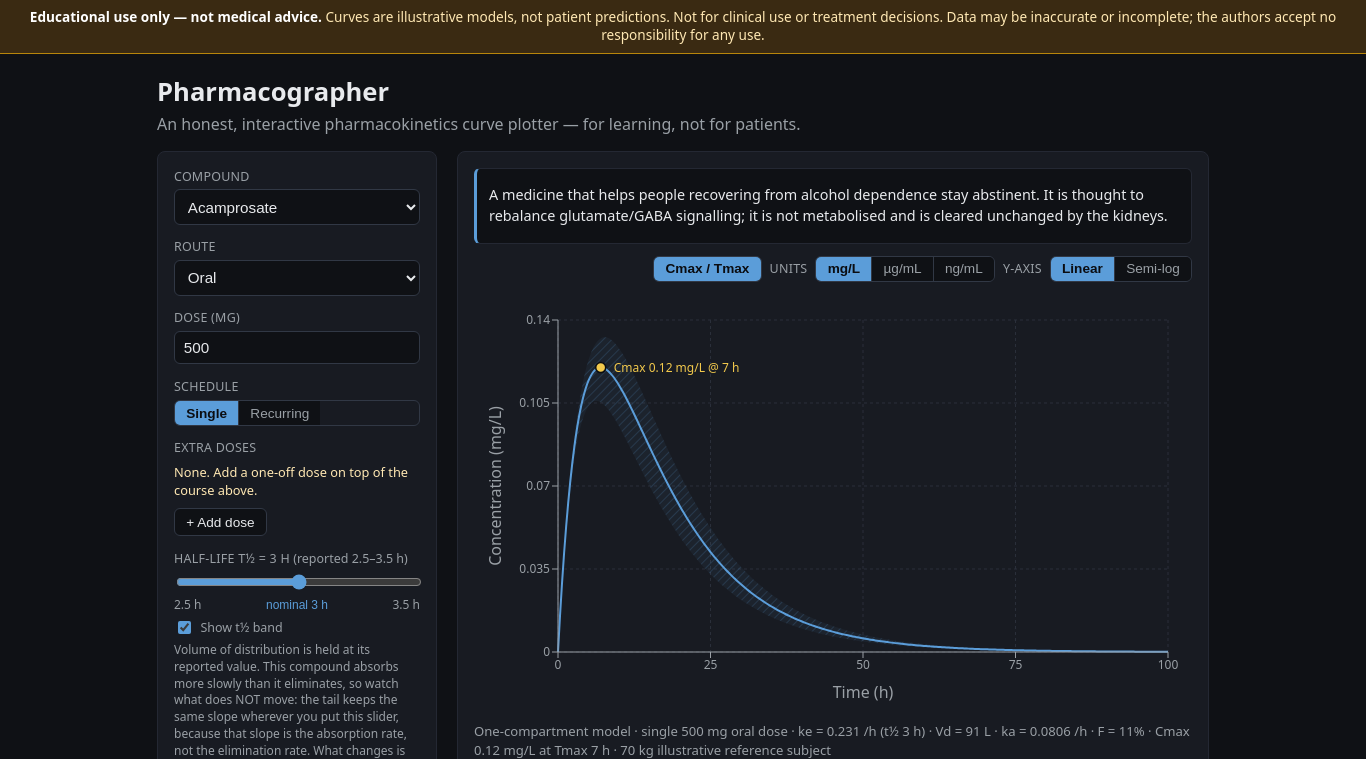
Test: variability axes, wired through App › offers NO Vd slider for a two-compartment compound
The image size is (1366, 759).
Select "Digoxin" in the dropdown with class "control__input" showing "Compound" at (297, 207), box [174, 190, 420, 225]
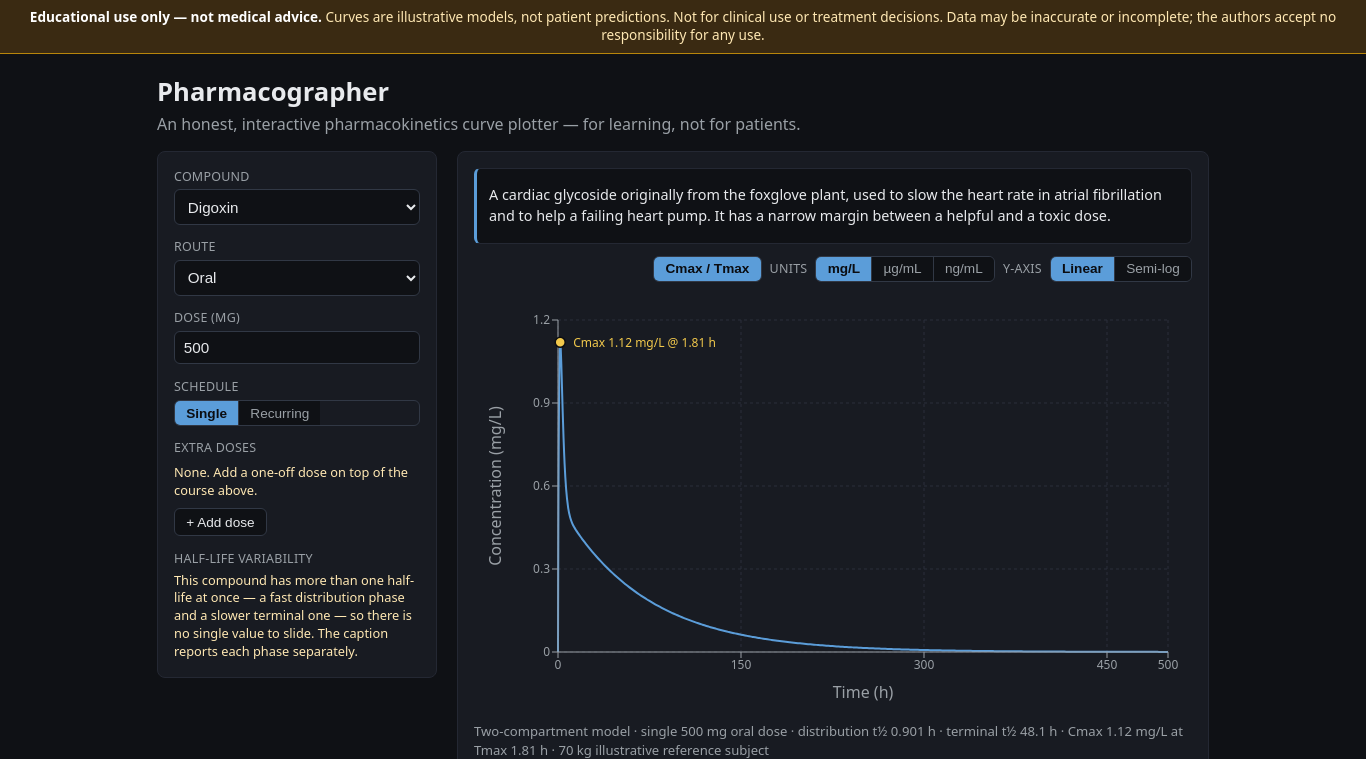
Expected: the element with class "controls" shows "more than one half-life at once", [174, 571, 414, 660]
